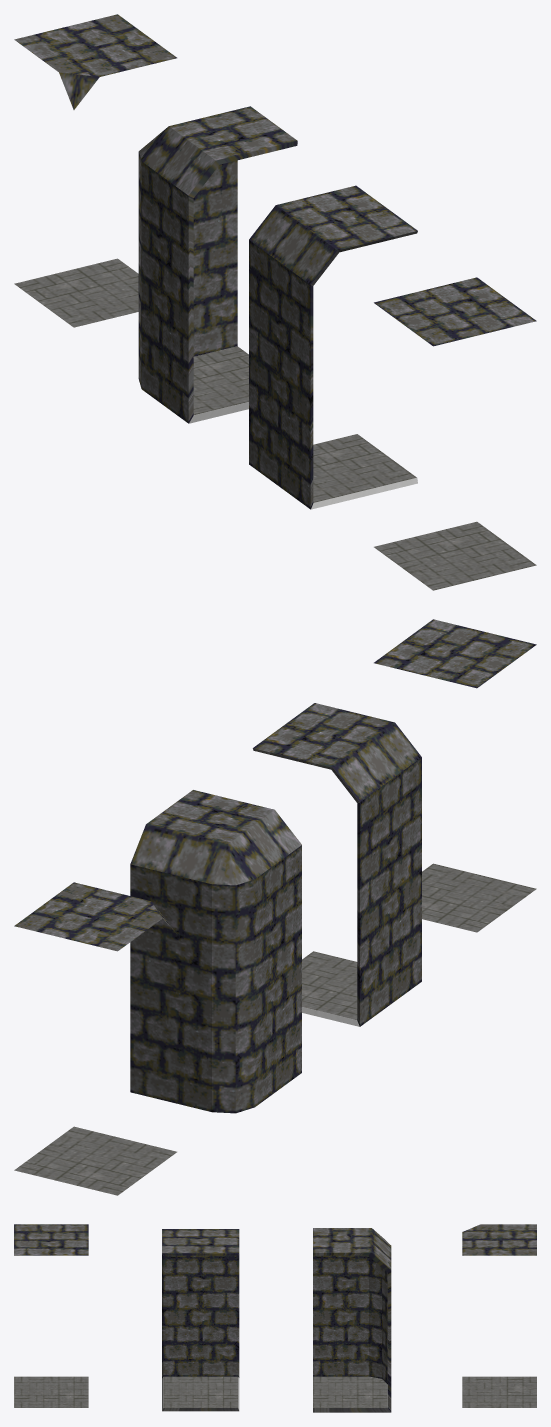
The model's file is wall3d.glb.
The picture shows the model from 3 angles, top to bottom: view 1: azimuth 30°, elevation 25°; view 2: azimuth 150°, elevation 25°; view 3: azimuth 270°, elevation 25°; orthographic projection. The views are drawn at different scales.
Visible parts, largest first — view 1: wallCorner_col, wall_col, floorCeil_col, floorCeilCorner_col; view 2: wallCorner_col, wall_col, floorCeilCorner_col, floorCeil_col; view 3: wallCorner_col, wall_col, floorCeil_col, floorCeilCorner_col.
Boxes of the visible parts, x1=… form: wallCorner_col: x1=138, y1=106, x2=297, y2=423; wall_col: x1=249, y1=185, x2=417, y2=509; floorCeil_col: x1=374, y1=277, x2=536, y2=590; floorCeilCorner_col: x1=14, y1=14, x2=176, y2=327; wallCorner_col: x1=130, y1=790, x2=301, y2=1113; wall_col: x1=252, y1=703, x2=421, y2=1026; floorCeilCorner_col: x1=14, y1=882, x2=176, y2=1195; floorCeil_col: x1=374, y1=619, x2=536, y2=932; wallCorner_col: x1=313, y1=1228, x2=391, y2=1412; wall_col: x1=162, y1=1229, x2=239, y2=1411; floorCeil_col: x1=14, y1=1224, x2=88, y2=1407; floorCeilCorner_col: x1=462, y1=1224, x2=536, y2=1407.
Size of the model in its own units: 4.2 by 9.45 by 28.
1 material, 1 textured.
